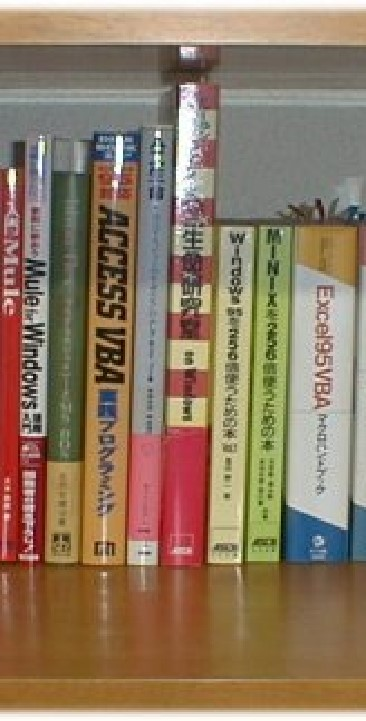book: (168, 70, 219, 571), (83, 123, 138, 569), (286, 220, 354, 565), (41, 135, 94, 571), (129, 121, 174, 573), (13, 130, 53, 565), (209, 219, 254, 571), (251, 213, 292, 568)
